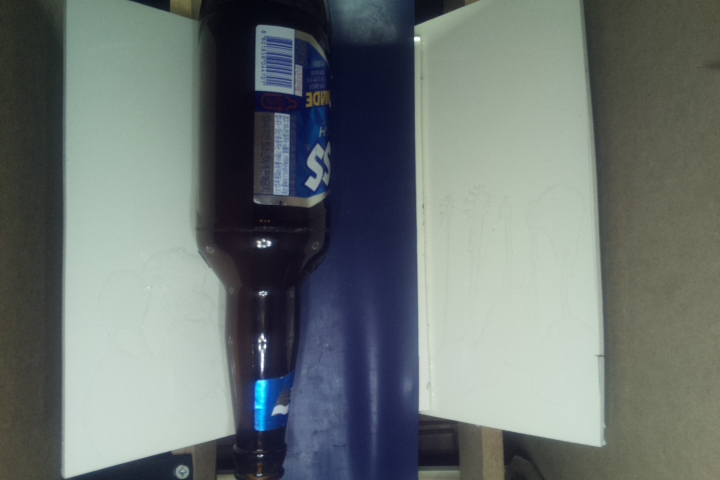makju: (198, 1, 339, 479)
